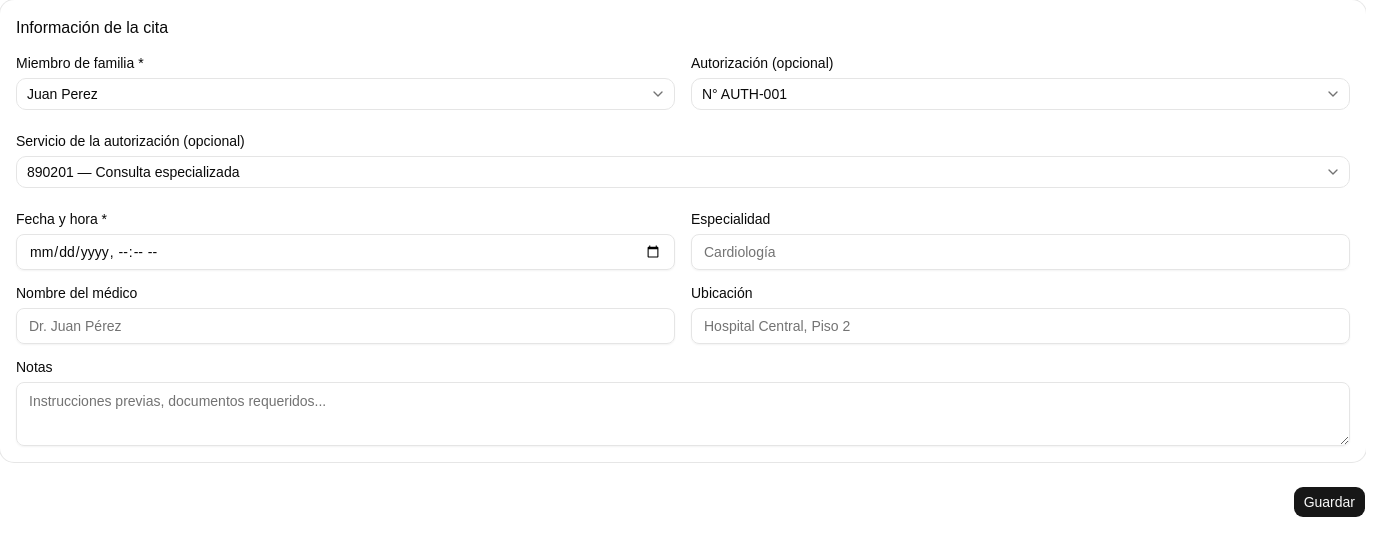
Test: AppointmentForm › refetches and clears authorization-dependent fields when family member changes
Check: the text "Miembro de familia *" is shown, box left=16, top=55, right=144, bottom=71
Click the dropdown labelled "Juan Perez ▼". click: x=62, y=94
box: left=16, top=78, right=675, bottom=110
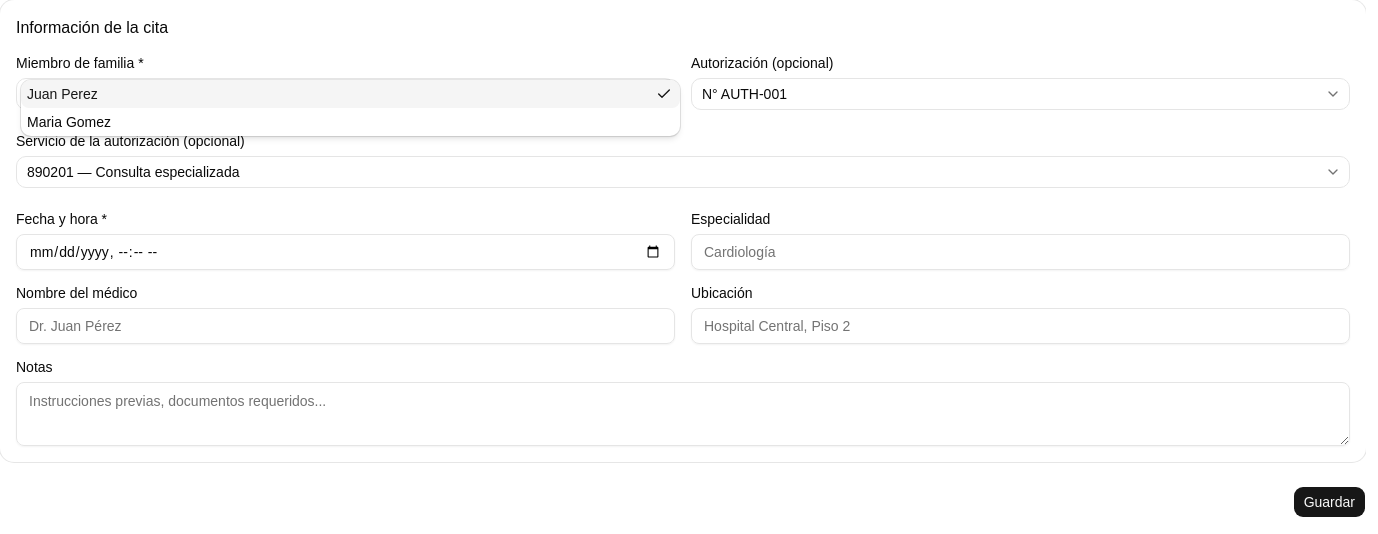
Click the option "Maria Gomez". click: x=69, y=122
box: left=27, top=114, right=111, bottom=130
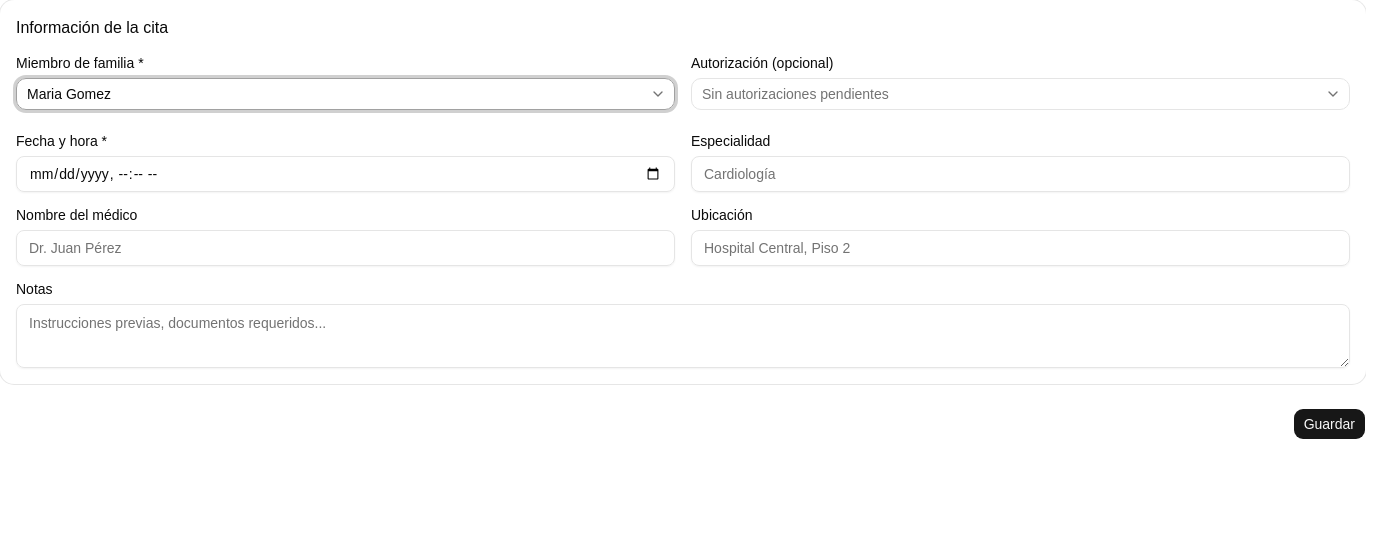
Check: the text "Autorización (opcional)" is shown, box left=691, top=55, right=833, bottom=71
Check: the dropdown "N° AUTH-001" is gone
Check: the text "Servicio de la autorización (opcional)" is gone
